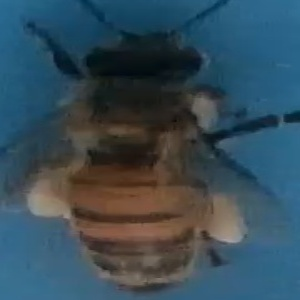bee: (13, 4, 293, 296)
